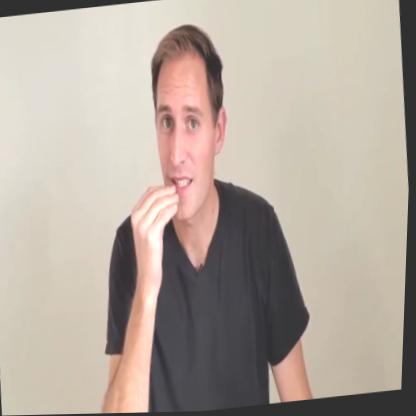Food: (117, 1, 259, 290)
